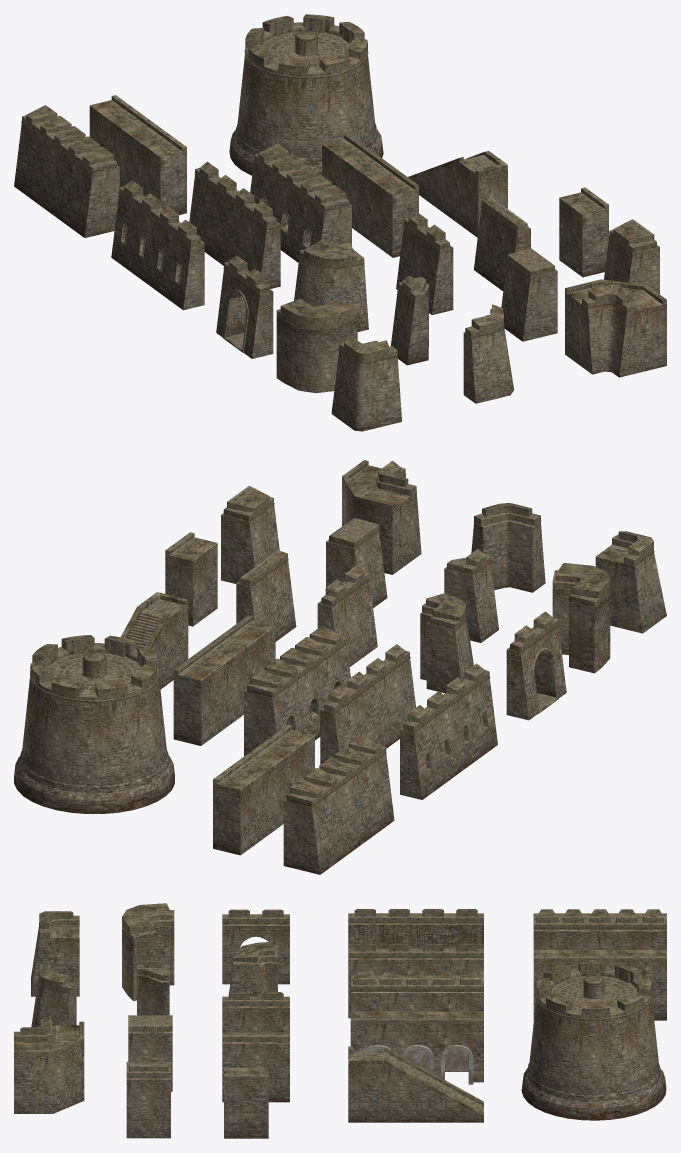
File: modular_fort_01.glb
3 renders of one model, top to bottom at view 1: azimuth 30°, elevation 25°; view 2: azimuth 150°, elevation 25°; view 3: azimuth 270°, elevation 25°, orthographic. The views are drawn at different scales.
Visible parts, largest first — view 1: modular_fort_01_tower_round, modular_fort_01_wall_thick_straight_01, modular_fort_01_wall_thin_straight_02, modular_fort_01_wall_thick_straight_02, modular_fort_01_wall_thin_straight_01, modular_fort_01_wall_walkway_straight_01, modular_fort_01_wall_walkway_straight_02, modular_fort_01_wall_thick_corner_02, modular_fort_01_wall_thin_corner_02, modular_fort_01_wall_thin_corner_01, modular_fort_01_wall_stairs_straight_01, modular_fort_01_wall_thin_gate_01 (+9 smaller); view 2: modular_fort_01_tower_round, modular_fort_01_wall_thick_straight_01, modular_fort_01_wall_thin_straight_02, modular_fort_01_wall_walkway_straight_01, modular_fort_01_wall_walkway_straight_02, modular_fort_01_wall_thick_straight_02, modular_fort_01_wall_thin_straight_01, modular_fort_01_wall_thick_corner_02, modular_fort_01_wall_thin_corner_03, modular_fort_01_wall_thin_gate_01, modular_fort_01_wall_thick_corner_01, modular_fort_01_wall_thick_end_02 (+10 smaller); view 3: modular_fort_01_tower_round, modular_fort_01_wall_stairs_straight_01, modular_fort_01_wall_walkway_straight_01, modular_fort_01_wall_walkway_corner_01, modular_fort_01_wall_thick_straight_02, modular_fort_01_wall_thick_straight_01, modular_fort_01_wall_thin_straight_02, modular_fort_01_wall_thin_straight_01, modular_fort_01_wall_thick_end_02, modular_fort_01_wall_thick_corner_02, modular_fort_01_wall_walkway_straight_02, modular_fort_01_wall_thin_straight_03 (+10 smaller).
Boxes of the visible parts, left/top/right/bottom form: modular_fort_01_tower_round: left=229, top=14, right=383, bottom=175; modular_fort_01_wall_thick_straight_01: left=14, top=105, right=119, bottom=237; modular_fort_01_wall_thin_straight_02: left=111, top=180, right=204, bottom=310; modular_fort_01_wall_thick_straight_02: left=250, top=143, right=351, bottom=262; modular_fort_01_wall_thin_straight_01: left=189, top=161, right=280, bottom=288; modular_fort_01_wall_walkway_straight_01: left=322, top=133, right=418, bottom=257; modular_fort_01_wall_walkway_straight_02: left=89, top=95, right=186, bottom=214; modular_fort_01_wall_thick_corner_02: left=276, top=298, right=357, bottom=393; modular_fort_01_wall_thin_corner_02: left=331, top=336, right=401, bottom=431; modular_fort_01_wall_thin_corner_01: left=580, top=284, right=640, bottom=377; modular_fort_01_wall_stairs_straight_01: left=408, top=150, right=507, bottom=237; modular_fort_01_wall_thin_gate_01: left=216, top=255, right=273, bottom=358; modular_fort_01_tower_round: left=14, top=635, right=174, bottom=813; modular_fort_01_wall_thick_straight_01: left=283, top=735, right=394, bottom=874; modular_fort_01_wall_thin_straight_02: left=400, top=663, right=497, bottom=799; modular_fort_01_wall_walkway_straight_01: left=173, top=615, right=275, bottom=745; modular_fort_01_wall_walkway_straight_02: left=213, top=724, right=314, bottom=855; modular_fort_01_wall_thick_straight_02: left=244, top=626, right=350, bottom=756; modular_fort_01_wall_thin_straight_01: left=320, top=644, right=415, bottom=764; modular_fort_01_wall_thick_corner_02: left=552, top=563, right=610, bottom=673; modular_fort_01_wall_thin_corner_03: left=471, top=503, right=545, bottom=592; modular_fort_01_wall_thin_gate_01: left=506, top=611, right=566, bottom=720; modular_fort_01_wall_thick_corner_01: left=420, top=593, right=473, bottom=693; modular_fort_01_wall_thick_end_02: left=221, top=486, right=279, bottom=583; modular_fort_01_tower_round: left=521, top=960, right=666, bottom=1120; modular_fort_01_wall_stairs_straight_01: left=348, top=1046, right=483, bottom=1122; modular_fort_01_wall_walkway_straight_01: left=350, top=1011, right=483, bottom=1084; modular_fort_01_wall_walkway_corner_01: left=14, top=1021, right=84, bottom=1113; modular_fort_01_wall_thick_straight_02: left=350, top=971, right=483, bottom=1011; modular_fort_01_wall_thick_straight_01: left=533, top=909, right=666, bottom=949; modular_fort_01_wall_thin_straight_02: left=348, top=909, right=483, bottom=948; modular_fort_01_wall_thin_straight_01: left=348, top=943, right=483, bottom=1018; modular_fort_01_wall_thick_end_02: left=126, top=1057, right=170, bottom=1138; modular_fort_01_wall_thick_corner_02: left=122, top=903, right=174, bottom=1001; modular_fort_01_wall_walkway_straight_02: left=533, top=950, right=666, bottom=1020; modular_fort_01_wall_thin_straight_03: left=222, top=1032, right=289, bottom=1102.
Bounding box in the file's own units: 42.67 × 13.67 × 71.38.
3 materials, 3 textured.
